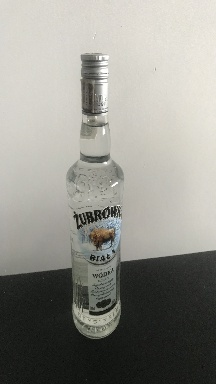butelka: (64, 47, 125, 341)
